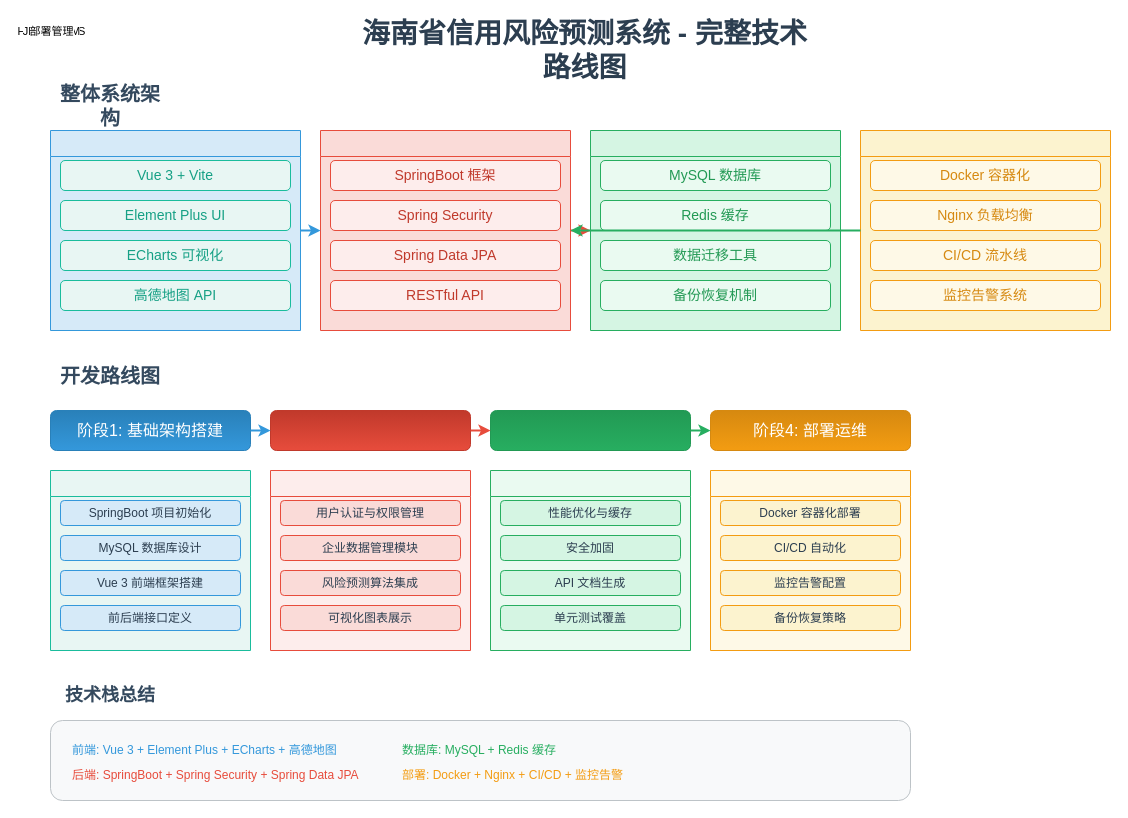
Some shapes in this 1128 by 818 pixel diagram are drawn without their labels. The shapes that lost their labels are listed below. From the top down, each one's box as (x1, y1, x2, y2) in pixels, then its label:
(50, 130, 300, 330): 前端展示层
(320, 130, 570, 330): SpringBoot 应用层
(590, 130, 840, 330): 数据持久层
(860, 130, 1110, 330): 部署运维层
(270, 410, 470, 450): 阶段2: 核心功能开发
(490, 410, 690, 450): 阶段3: 系统优化
(50, 470, 250, 650): 基础架构
(270, 470, 470, 650): 核心功能
(490, 470, 690, 650): 系统优化
(710, 470, 910, 650): 部署运维
(50, 720, 910, 800): 完整技术栈
